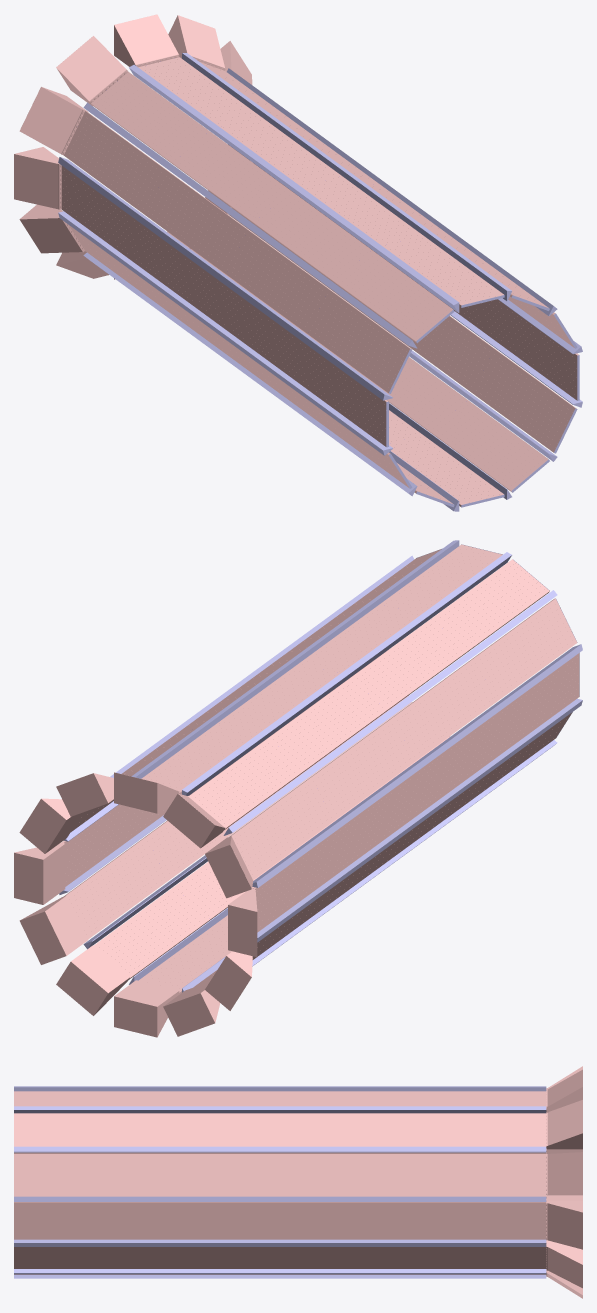
File: dirc_only.gltf
3 renders of one model, top to bottom at view 1: azimuth 30°, elevation 25°; view 2: azimuth 150°, elevation 25°; view 3: azimuth 270°, elevation 25°, orthographic. The views are drawn at different scales.
Parts seen in each view (by area): view 1: rail_vol_0 (×11), prism_vol_0 (×8); view 2: rail_vol_0 (×10), mcp_vol_1 (×12), prism_vol_0 (×5); view 3: rail_vol_0 (×7), prism_vol_0 (×6), bar_vol_49 (×5), bar_vol_51 (×5), bar_vol_53 (×5), bar_vol_55 (×5), bar_vol_17 (×5), bar_vol_19 (×5), bar_vol_21 (×5), bar_vol_23 (×5), bar_vol_25 (×4), bar_vol_27 (×4) (+30 smaller).
Part boxes in pixels (x1,y1,x2,y2): rail_vol_0 (×11): (58,53,582,499); prism_vol_0 (×8): (14,14,252,278); rail_vol_0 (×10): (59,540,582,984); mcp_vol_1 (×12): (14,772,257,1037); prism_vol_0 (×5): (15,798,178,1036); rail_vol_0 (×7): (14,1086,546,1278); prism_vol_0 (×6): (547,1069,582,1298); bar_vol_49 (×5): (14,1101,147,1261); bar_vol_51 (×5): (147,1101,280,1261); bar_vol_53 (×5): (280,1101,413,1261); bar_vol_55 (×5): (413,1101,546,1261); bar_vol_17 (×5): (14,1094,147,1252); bar_vol_19 (×5): (147,1094,280,1252); bar_vol_21 (×5): (280,1094,413,1252); bar_vol_23 (×5): (413,1094,546,1252); bar_vol_25 (×4): (14,1123,147,1254); bar_vol_27 (×4): (147,1123,280,1254).
Size of the model in its own units: 197 by 197 by 486.
